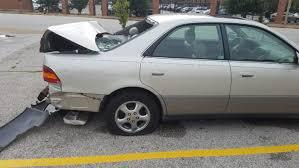Rear-windscreen-Damage: (108, 18, 151, 50)
quaterpanel-dent: (48, 75, 99, 112)
